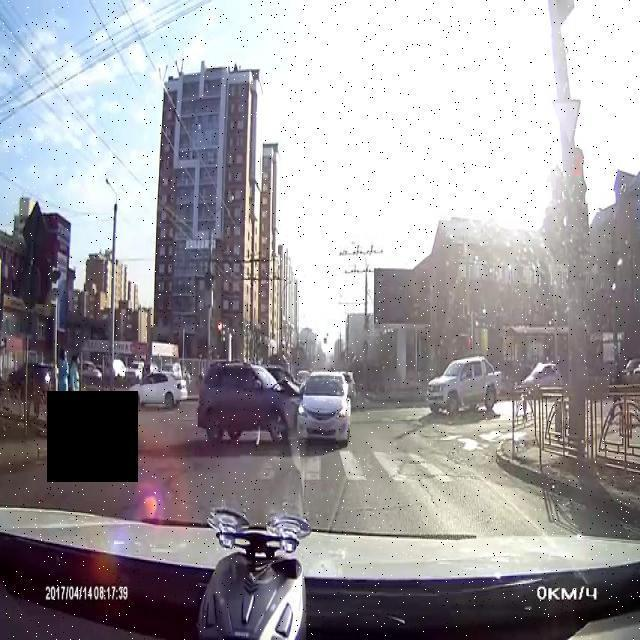multiple_accident: (170, 345, 375, 467)
